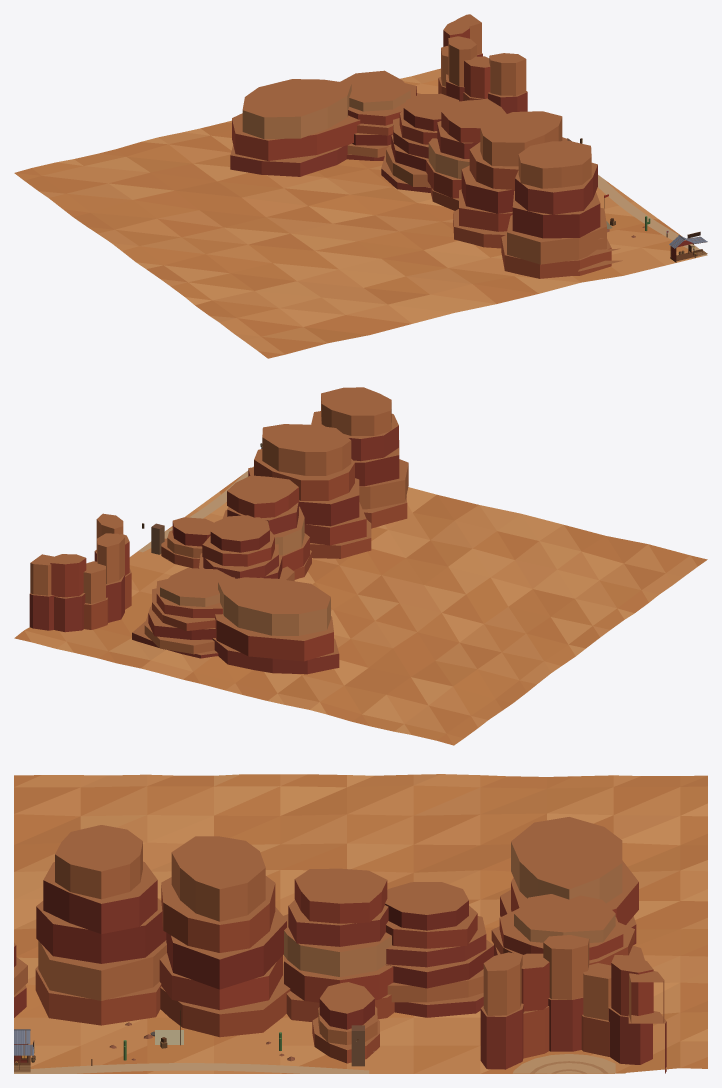
3 views of the same model, one above another, from view 1: azimuth 30°, elevation 25°; view 2: azimuth 150°, elevation 25°; view 3: azimuth 270°, elevation 25° (orthographic). The views are drawn at different scales.
Visible parts, largest first — view 1: baked; view 2: baked; view 3: baked.
Part boxes in pixels (x1,y1,x2,y2): baked: (14,14,707,358); baked: (14,387,707,745); baked: (14,774,707,1073).
Bounding box in the file's own units: 125 × 28.97 × 125.
